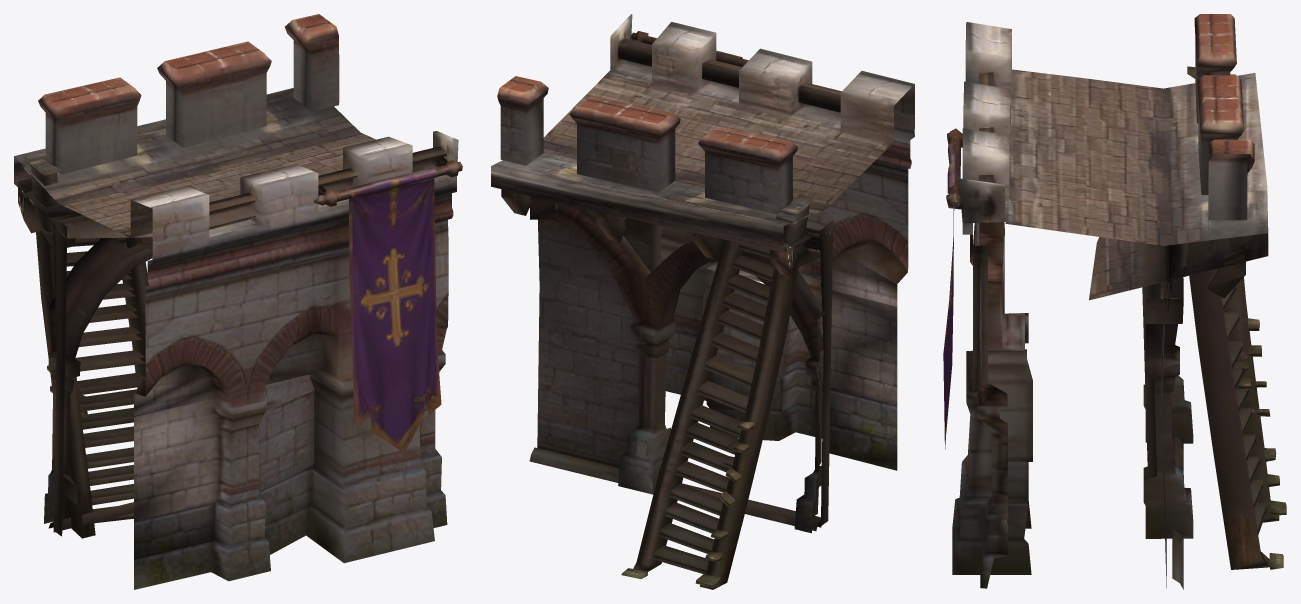
Rendered from WallRunFront_06.fbx.
The picture shows the model from 3 angles, left to right: view 1: azimuth 30°, elevation 25°; view 2: azimuth 150°, elevation 25°; view 3: azimuth 270°, elevation 25°; orthographic projection. The views are drawn at different scales.
Parts seen in each view (by area): view 1: WallRunFront_06; view 2: WallRunFront_06; view 3: WallRunFront_06.
Part boxes in pixels (bbox=[...]): WallRunFront_06: bbox=[14, 14, 462, 589]; WallRunFront_06: bbox=[491, 14, 914, 589]; WallRunFront_06: bbox=[943, 14, 1286, 589].
Size of the model in its own units: 433 by 644 by 407.
1 material, 1 textured.
